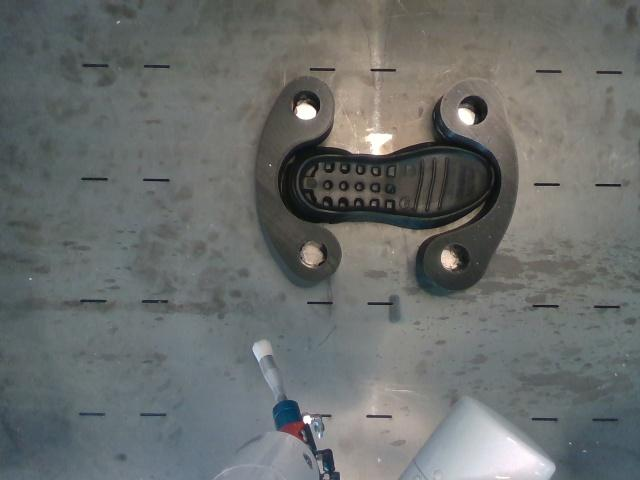shoes: (299, 147, 493, 219)
